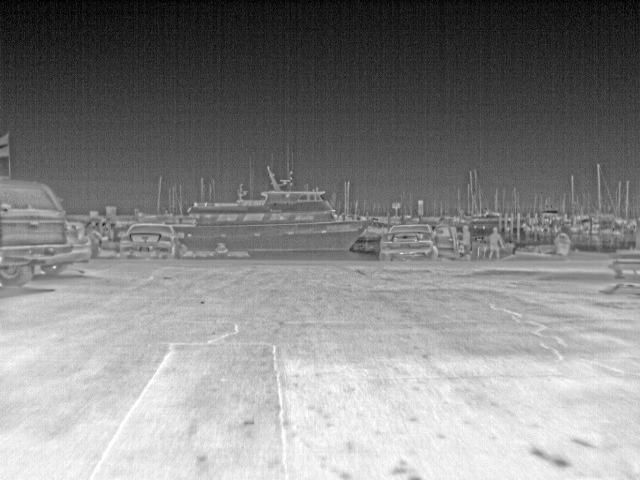car: (1, 177, 69, 288), (378, 222, 459, 264), (43, 222, 93, 278), (120, 220, 187, 261)
person: (488, 226, 507, 262), (460, 225, 474, 259)
